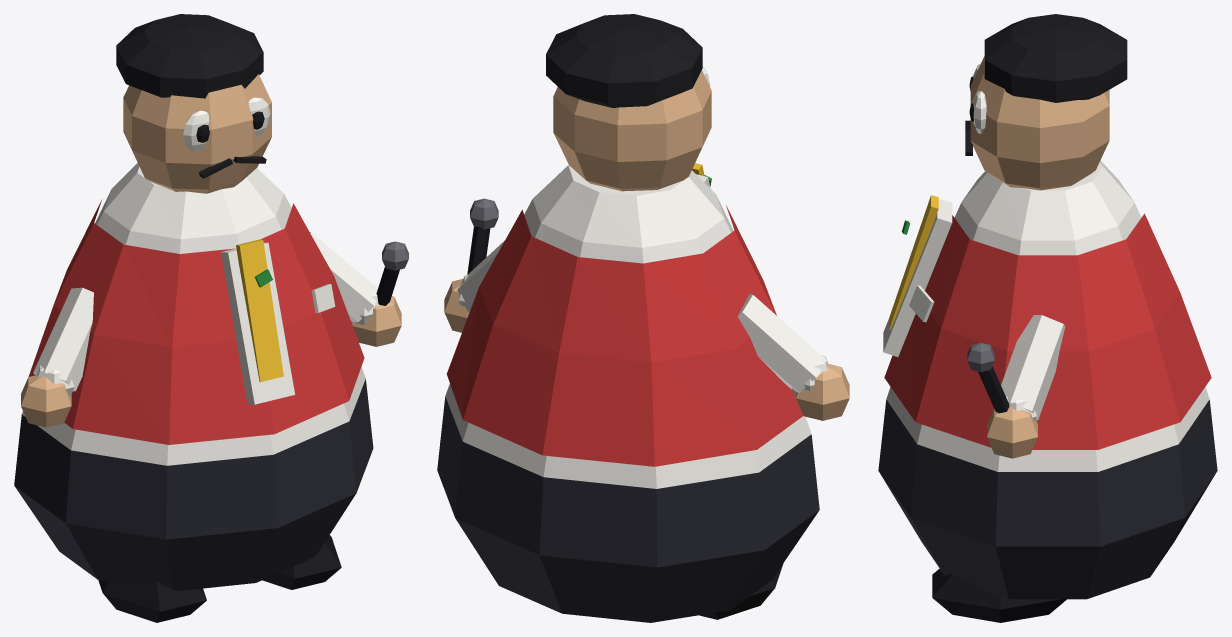
The model's file is npc_don_oferton.glb.
3 views of the same model, side by side, from view 1: azimuth 30°, elevation 25°; view 2: azimuth 150°, elevation 25°; view 3: azimuth 270°, elevation 25° (orthographic). The views are drawn at different scales.
Parts seen in each view (by area): view 1: vest_oferton_vest, body_oferton_slacks, body_white, head_skin_trigo, hair_oferton_hair, arms_white, legs_black, vest_white, tie_oferton_tie, arms_skin_trigo, face_white, mic_oferton_mic (+1 smaller); view 2: vest_oferton_vest, body_oferton_slacks, body_white, head_skin_trigo, hair_oferton_hair, arms_white, arms_skin_trigo, legs_black, mic_oferton_mic, mic_black; view 3: vest_oferton_vest, body_oferton_slacks, body_white, head_skin_trigo, hair_oferton_hair, arms_white, legs_black, vest_white, arms_skin_trigo, tie_oferton_tie, mic_black, mic_oferton_mic (+2 smaller).
Part boxes in pixels (bbox=[...]): vest_oferton_vest: bbox=[28, 200, 364, 444]; body_oferton_slacks: bbox=[14, 379, 373, 590]; body_white: bbox=[22, 163, 365, 465]; head_skin_trigo: bbox=[123, 74, 271, 193]; hair_oferton_hair: bbox=[116, 14, 263, 98]; arms_white: bbox=[33, 232, 379, 396]; legs_black: bbox=[98, 535, 341, 622]; vest_white: bbox=[221, 242, 295, 404]; tie_oferton_tie: bbox=[236, 239, 283, 382]; arms_skin_trigo: bbox=[21, 296, 401, 427]; face_white: bbox=[183, 97, 270, 151]; mic_oferton_mic: bbox=[382, 241, 408, 270]; vest_oferton_vest: bbox=[446, 205, 803, 466]; body_oferton_slacks: bbox=[437, 396, 819, 622]; body_white: bbox=[445, 165, 811, 488]; head_skin_trigo: bbox=[553, 70, 711, 191]; hair_oferton_hair: bbox=[546, 14, 702, 108]; arms_white: bbox=[457, 240, 828, 395]; arms_skin_trigo: bbox=[444, 279, 849, 420]; legs_black: bbox=[699, 563, 783, 619]; mic_oferton_mic: bbox=[470, 198, 498, 229]; mic_black: bbox=[467, 226, 490, 274]; vest_oferton_vest: bbox=[884, 213, 1211, 449]; body_oferton_slacks: bbox=[878, 400, 1217, 599]; body_white: bbox=[886, 160, 1209, 471]; head_skin_trigo: bbox=[970, 56, 1109, 190]; hair_oferton_hair: bbox=[984, 14, 1127, 102]; arms_white: bbox=[1001, 315, 1065, 421]; legs_black: bbox=[932, 568, 1066, 622]; vest_white: bbox=[883, 198, 952, 356]; arms_skin_trigo: bbox=[987, 407, 1037, 458]; tie_oferton_tie: bbox=[889, 195, 938, 329]; mic_black: bbox=[978, 366, 1009, 413]; mic_oferton_mic: bbox=[967, 342, 994, 372].
Bounding box in the file's own units: 1.13 × 1.55 × 0.86.
